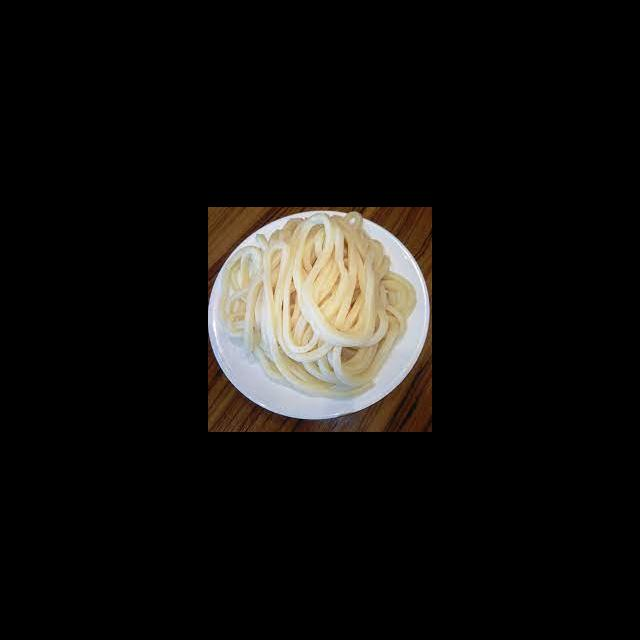noodles: (226, 216, 411, 394)
